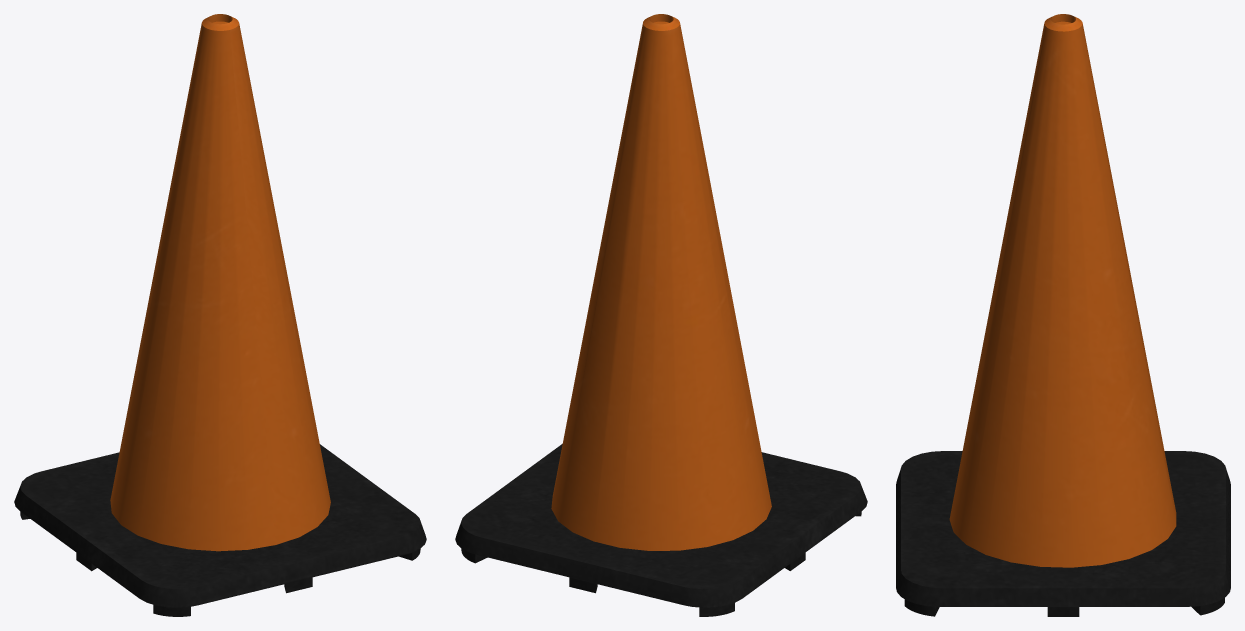
Rendered from traffic-cone-5.glb.
The picture shows the model from 3 angles, left to right: view 1: azimuth 30°, elevation 25°; view 2: azimuth 150°, elevation 25°; view 3: azimuth 270°, elevation 25°; orthographic projection. The views are drawn at different scales.
Visible parts, largest first — view 1: Object_85; view 2: Object_85; view 3: Object_85.
Part boxes in pixels (x1,y1,x2,y2): Object_85: (14,14,426,616); Object_85: (455,14,867,616); Object_85: (896,14,1230,616).
Bounding box in the file's own units: 0.393 × 0.685 × 0.3928.
1 material, 1 textured.
